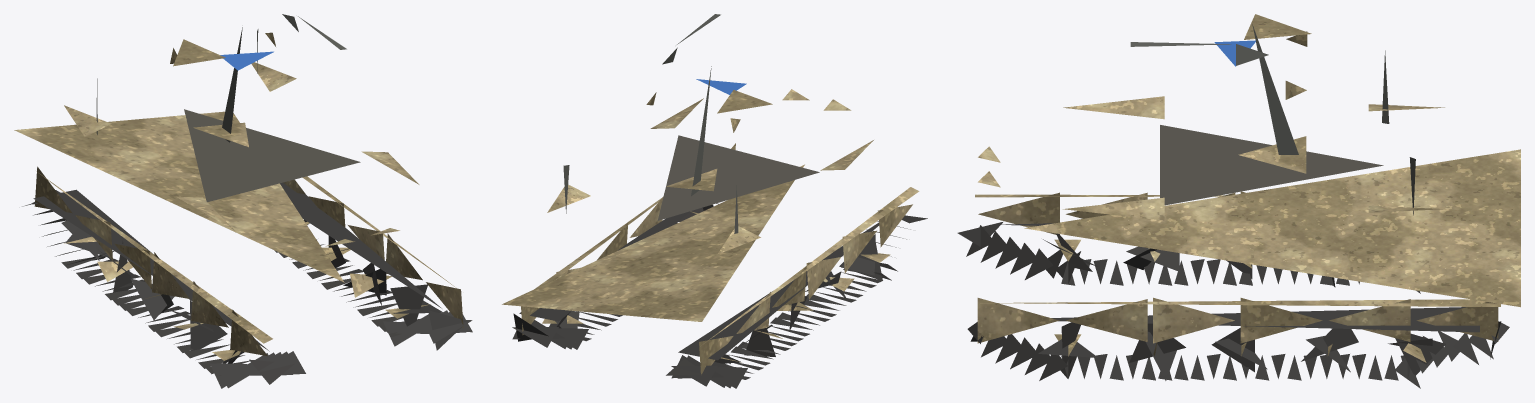
Rendered from art_e4_us_mortar_LOD2.glb.
3 renders of one model, left to right at view 1: azimuth 30°, elevation 25°; view 2: azimuth 150°, elevation 25°; view 3: azimuth 270°, elevation 25°, orthographic. The views are drawn at different scales.
Parts seen in each view (by area): view 1: art_e4_us_mortar_LOD2_body, art_e4_us_mortar_LOD2_track, art_e4_us_mortar_LOD2_deck, art_e4_us_mortar_LOD2_gun, art_e4_us_mortar_LOD2_team; view 2: art_e4_us_mortar_LOD2_body, art_e4_us_mortar_LOD2_track, art_e4_us_mortar_LOD2_deck, art_e4_us_mortar_LOD2_gun; view 3: art_e4_us_mortar_LOD2_body, art_e4_us_mortar_LOD2_track, art_e4_us_mortar_LOD2_deck, art_e4_us_mortar_LOD2_gun.
Boxes of the visible parts, bbox=[...] form: art_e4_us_mortar_LOD2_body: bbox=[14, 32, 463, 360]; art_e4_us_mortar_LOD2_track: bbox=[22, 182, 472, 388]; art_e4_us_mortar_LOD2_deck: bbox=[184, 109, 360, 202]; art_e4_us_mortar_LOD2_gun: bbox=[96, 14, 346, 142]; art_e4_us_mortar_LOD2_team: bbox=[220, 51, 273, 70]; art_e4_us_mortar_LOD2_body: bbox=[502, 89, 919, 374]; art_e4_us_mortar_LOD2_track: bbox=[512, 203, 927, 388]; art_e4_us_mortar_LOD2_deck: bbox=[657, 135, 819, 220]; art_e4_us_mortar_LOD2_gun: bbox=[563, 14, 738, 233]; art_e4_us_mortar_LOD2_body: bbox=[975, 14, 1520, 362]; art_e4_us_mortar_LOD2_track: bbox=[957, 221, 1509, 388]; art_e4_us_mortar_LOD2_deck: bbox=[1160, 125, 1383, 205]; art_e4_us_mortar_LOD2_gun: bbox=[1130, 24, 1415, 215].
Bounding box in the file's own units: 2.9 × 3.52 × 5.78.
5 materials, 1 textured.
